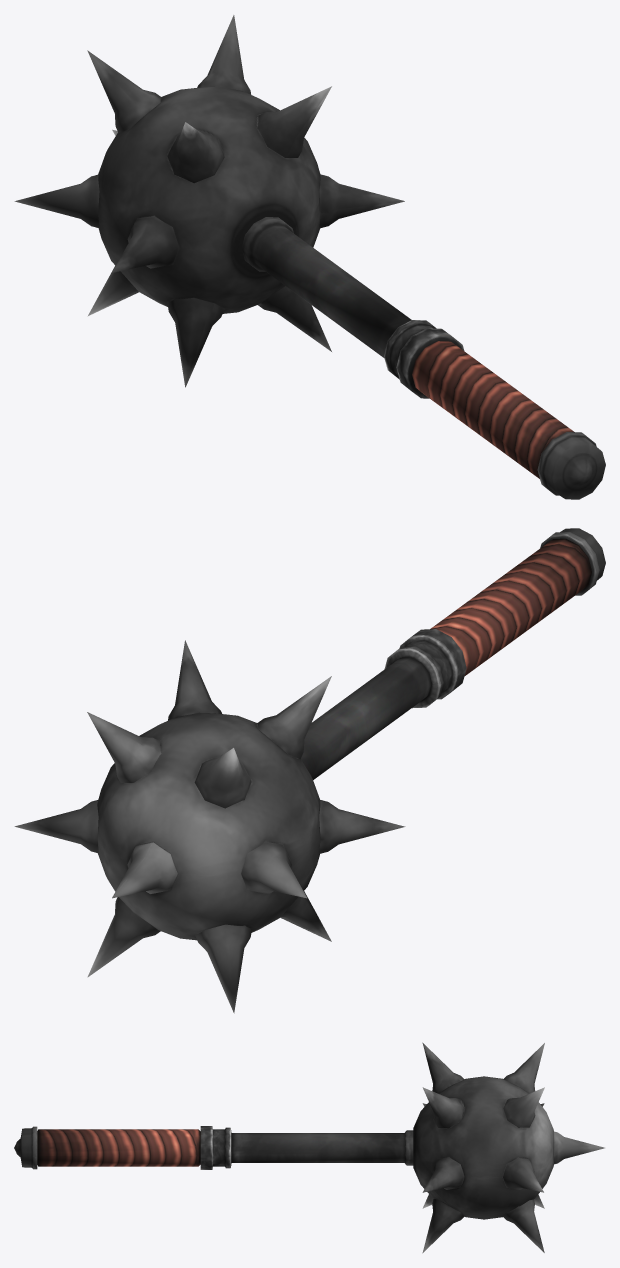
File: Mace_a.fbx
3 renders of one model, top to bottom at view 1: azimuth 30°, elevation 25°; view 2: azimuth 150°, elevation 25°; view 3: azimuth 270°, elevation 25°, orthographic. The views are drawn at different scales.
Parts seen in each view (by area): view 1: Mace_a; view 2: Mace_a; view 3: Mace_a.
Part boxes in pixels (x1,y1,x2,y2): Mace_a: [14, 15, 605, 499]; Mace_a: [14, 528, 605, 1013]; Mace_a: [14, 1042, 604, 1253].
Size of the model in its own units: 28.95 by 25.07 by 80.83.
